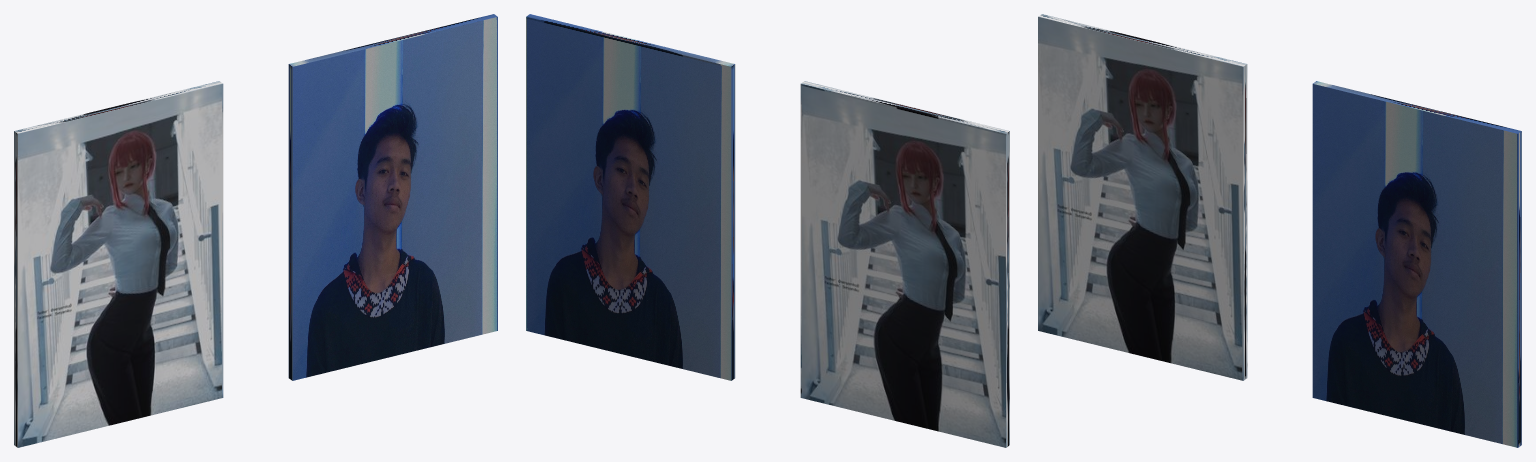
Rendered from road.dae.
3 views of the same model, side by side, from view 1: azimuth 30°, elevation 25°; view 2: azimuth 150°, elevation 25°; view 3: azimuth 330°, elevation 25° (orthographic).
Visible parts, largest first — view 1: Cube.001, Cube; view 2: Cube.001, Cube; view 3: Cube.001, Cube.
Boxes of the visible parts, x1,y1,x2,y2 form: Cube.001: [288, 14, 497, 380]; Cube: [14, 81, 223, 447]; Cube.001: [526, 14, 735, 380]; Cube: [800, 81, 1009, 447]; Cube.001: [1312, 81, 1521, 447]; Cube: [1038, 14, 1247, 380].
Size of the model in its own units: 4.68 by 0.0642 by 2.92.
2 materials, 2 textured.
